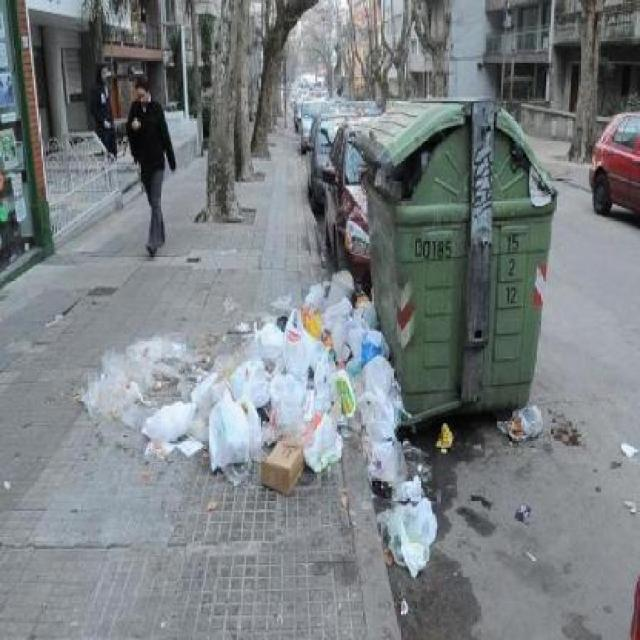garbage: (200, 282, 428, 483), (81, 357, 204, 440), (377, 491, 450, 572), (494, 406, 547, 452), (435, 408, 463, 450), (616, 438, 640, 470)
